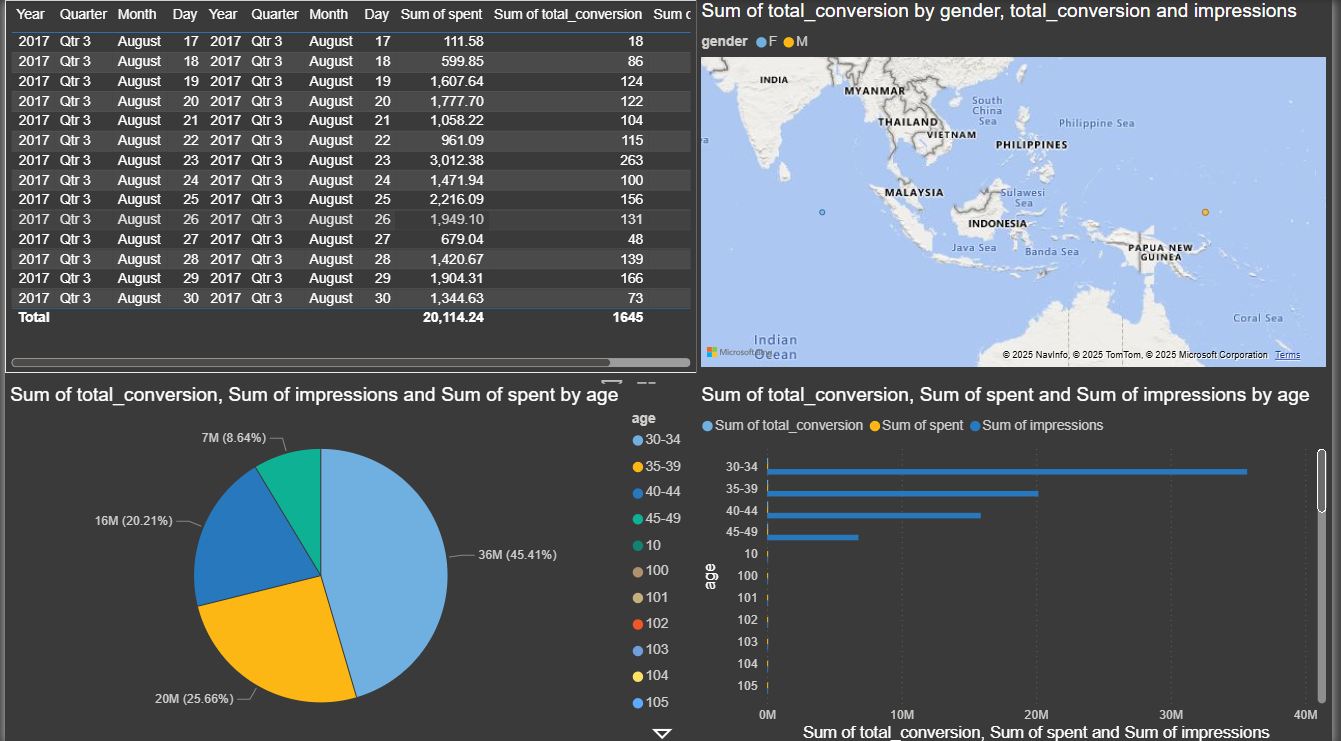

The page's visual inventory and layout, read from the dashboard file:
{"tool":"powerbi","page":{"name":"Page 2","canvas":[1280,720],"ordinal":1},"visuals":[{"type":"lineChart","fields":{"Category":["data.reporting_end.Variation.Date Hierarchy.Year","data.reporting_end.Variation.Date Hierarchy.Quarter","data.reporting_end.Variation.Date Hierarchy.Month","data.reporting_end.Variation.Date Hierarchy.Day","data.reporting_start.Variation.Date Hierarchy.Year","data.reporting_start.Variation.Date Hierarchy.Quarter","data.reporting_start.Variation.Date Hierarchy.Month","data.reporting_start.Variation.Date Hierarchy.Day"],"Y":["Sum(data.spent)","Sum(data.total_conversion)","Sum(data.impressions)"]},"box":[0,0,666.9,359.5],"z":0},{"type":"pieChart","fields":{"Y":["Sum(data.total_conversion)","Sum(data.impressions)","Sum(data.spent)"],"Category":["data.age","data.gender"]},"box":[0,370,667,350],"z":1000},{"type":"map","fields":{"Y":["data.total_conversion"],"X":["data.impressions"],"Size":["Sum(data.total_conversion)"],"Series":["data.gender"]},"box":[666.9,0,613.4,359.5],"z":2000},{"type":"clusteredBarChart","fields":{"Category":["data.age","data.gender","data.campaign_id"],"Y":["Sum(data.total_conversion)","Sum(data.spent)","Sum(data.impressions)"]},"box":[667,370,613,350],"z":3000}]}

Visuals, with their boxes in screenshot pixels (x1, y1, x2, y2), scaled from the page's 1280x720 canvas onto the 1341x741 screenshot:
lineChart - data.reporting_end.Variation.Date Hierarchy.Year x data.reporting_end.Variation.Date Hierarchy.Quarter: 0/0/699/370
pieChart - Sum(data.total_conversion) x Sum(data.impressions): 0/381/699/740
map - data.total_conversion x data.impressions: 699/0/1340/370
clusteredBarChart - data.age x data.gender: 699/381/1340/740
